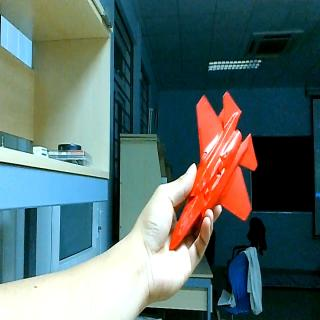Jet: (169, 89, 258, 252)
